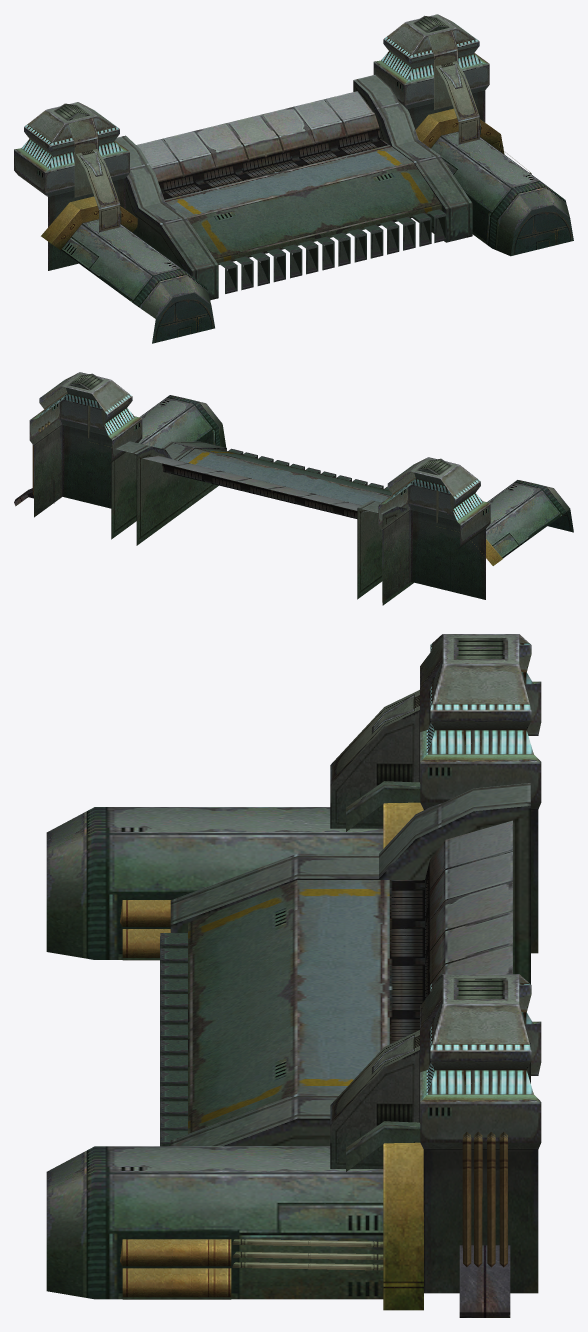
File: yw_museyulin_shuiba01.FBX
The picture shows the model from 3 angles, top to bottom: view 1: azimuth 30°, elevation 25°; view 2: azimuth 150°, elevation 25°; view 3: azimuth 270°, elevation 25°; orthographic projection. The views are drawn at different scales.
Parts seen in each view (by area): view 1: yw_museyulin_shuiba01; view 2: yw_museyulin_shuiba01; view 3: yw_museyulin_shuiba01.
Boxes of the visible parts, bbox=[...] form: yw_museyulin_shuiba01: bbox=[14, 14, 573, 343]; yw_museyulin_shuiba01: bbox=[14, 372, 573, 605]; yw_museyulin_shuiba01: bbox=[46, 634, 541, 1317].
Bounding box in the file's own units: 1398 × 417 × 654.
1 material, 1 textured.
